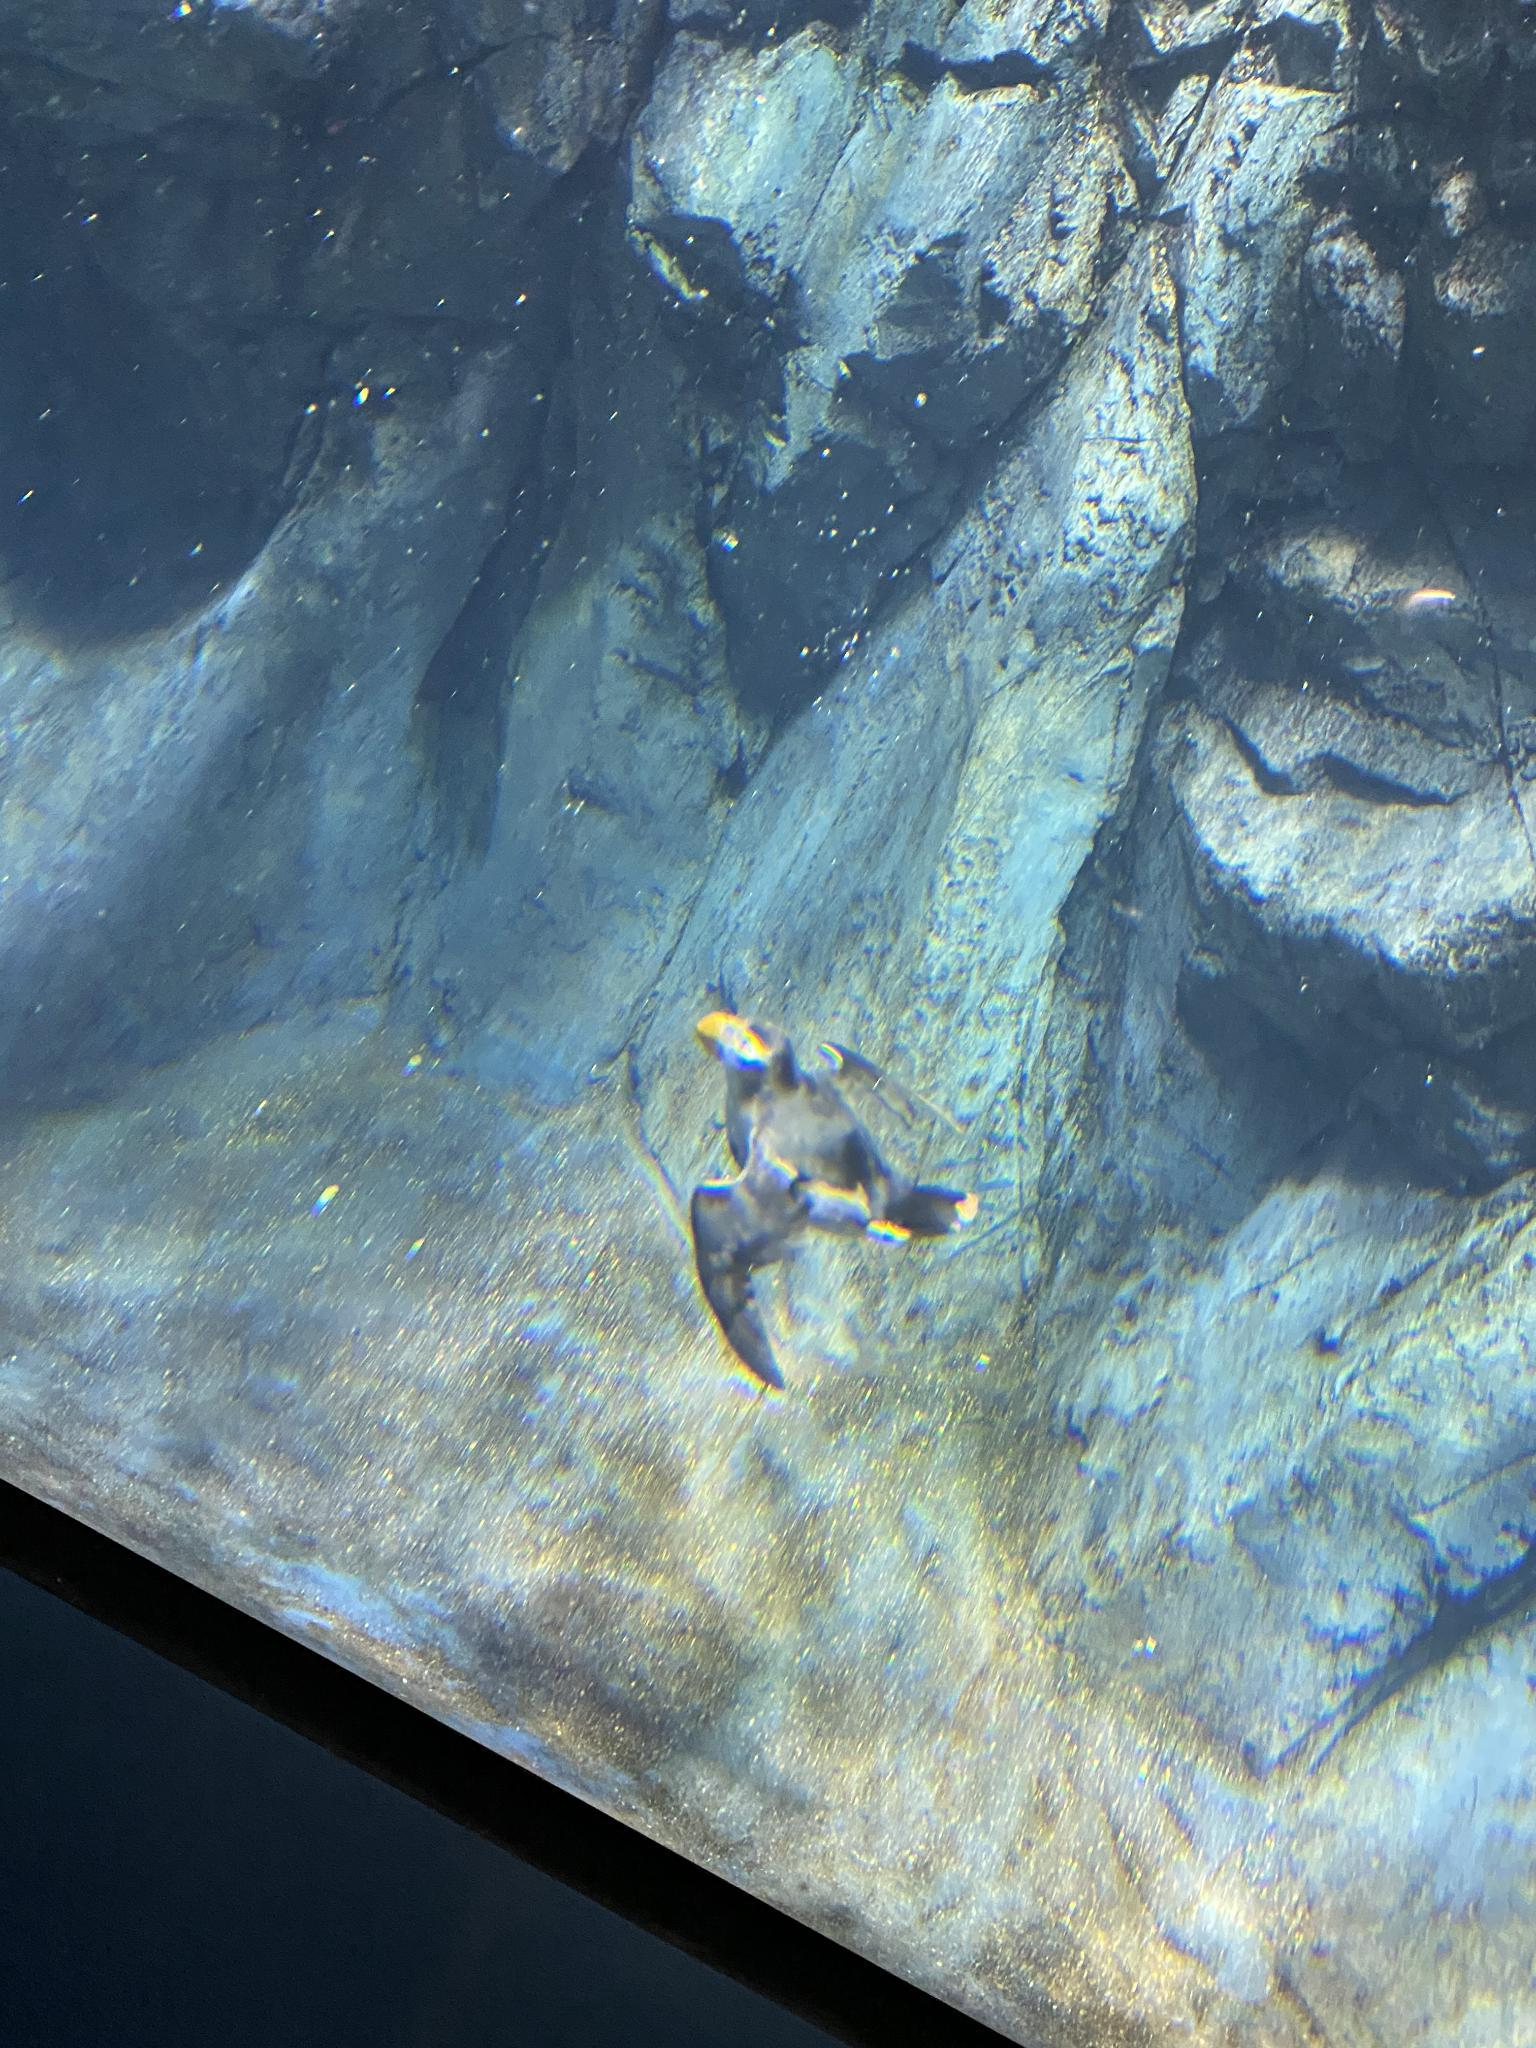fish: (865, 331, 1099, 482)
puffin: (657, 989, 984, 1388)
